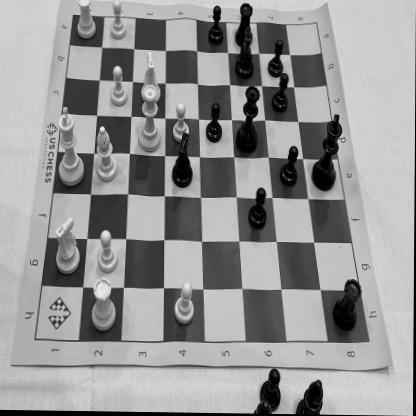black-king: (308, 111, 345, 195)
black-knight: (169, 131, 197, 190), (232, 27, 258, 81)
black-pawn: (247, 184, 271, 230), (280, 141, 300, 190), (203, 101, 225, 145), (206, 2, 227, 48), (271, 72, 291, 116), (267, 38, 286, 80)
black-queen: (232, 86, 263, 158)
black-rook: (331, 268, 363, 333), (232, 0, 254, 47)
white-bishop: (92, 123, 120, 186)
white-king: (52, 106, 86, 192)
white-pawn: (172, 278, 196, 329), (107, 64, 132, 111), (96, 228, 120, 276), (170, 100, 192, 146), (107, 0, 128, 42)
white-queen: (134, 84, 166, 155)
white-rook: (51, 214, 83, 278), (86, 275, 119, 335), (138, 47, 164, 104), (71, 0, 99, 42)
